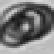correct: (0, 0, 51, 49)
